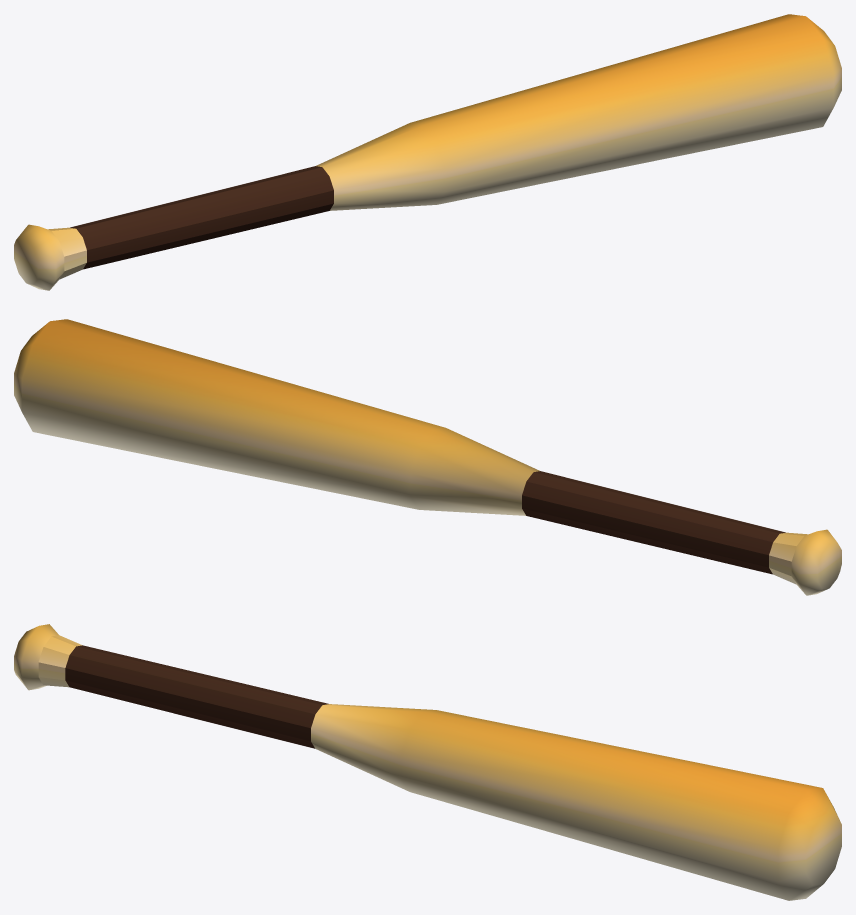
The model's file is weapon_44.FBX.
3 views of the same model, one above another, from view 1: azimuth 30°, elevation 25°; view 2: azimuth 150°, elevation 25°; view 3: azimuth 330°, elevation 25° (orthographic).
Parts seen in each view (by area): view 1: weapon_44; view 2: weapon_44; view 3: weapon_44.
Boxes of the visible parts, x1=… form: weapon_44: x1=14, y1=14, x2=841, y2=290; weapon_44: x1=14, y1=319, x2=841, y2=595; weapon_44: x1=14, y1=624, x2=841, y2=900.
Bounding box in the file's own units: 86.83 × 11.31 × 10.46.
